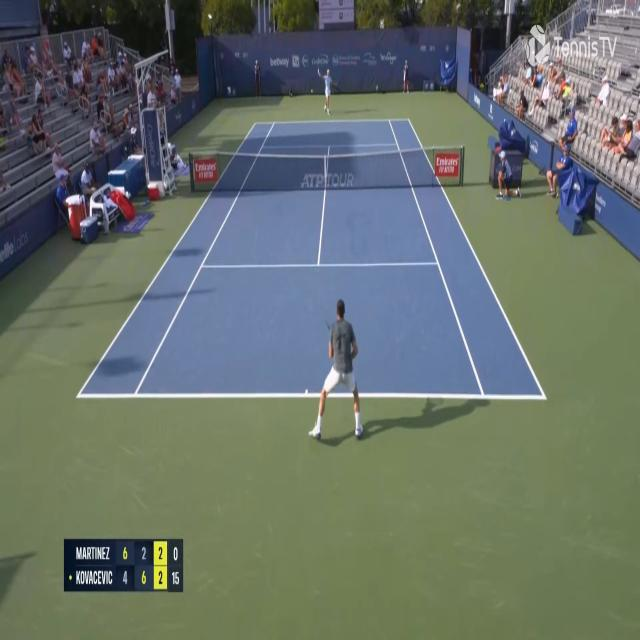tennis-player: (308, 296, 366, 447), (318, 67, 336, 116)
